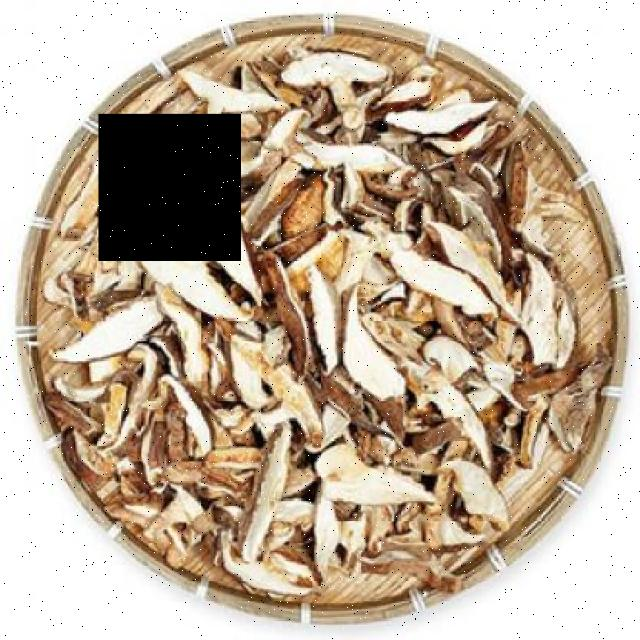Mushroom: (98, 114, 240, 260)
